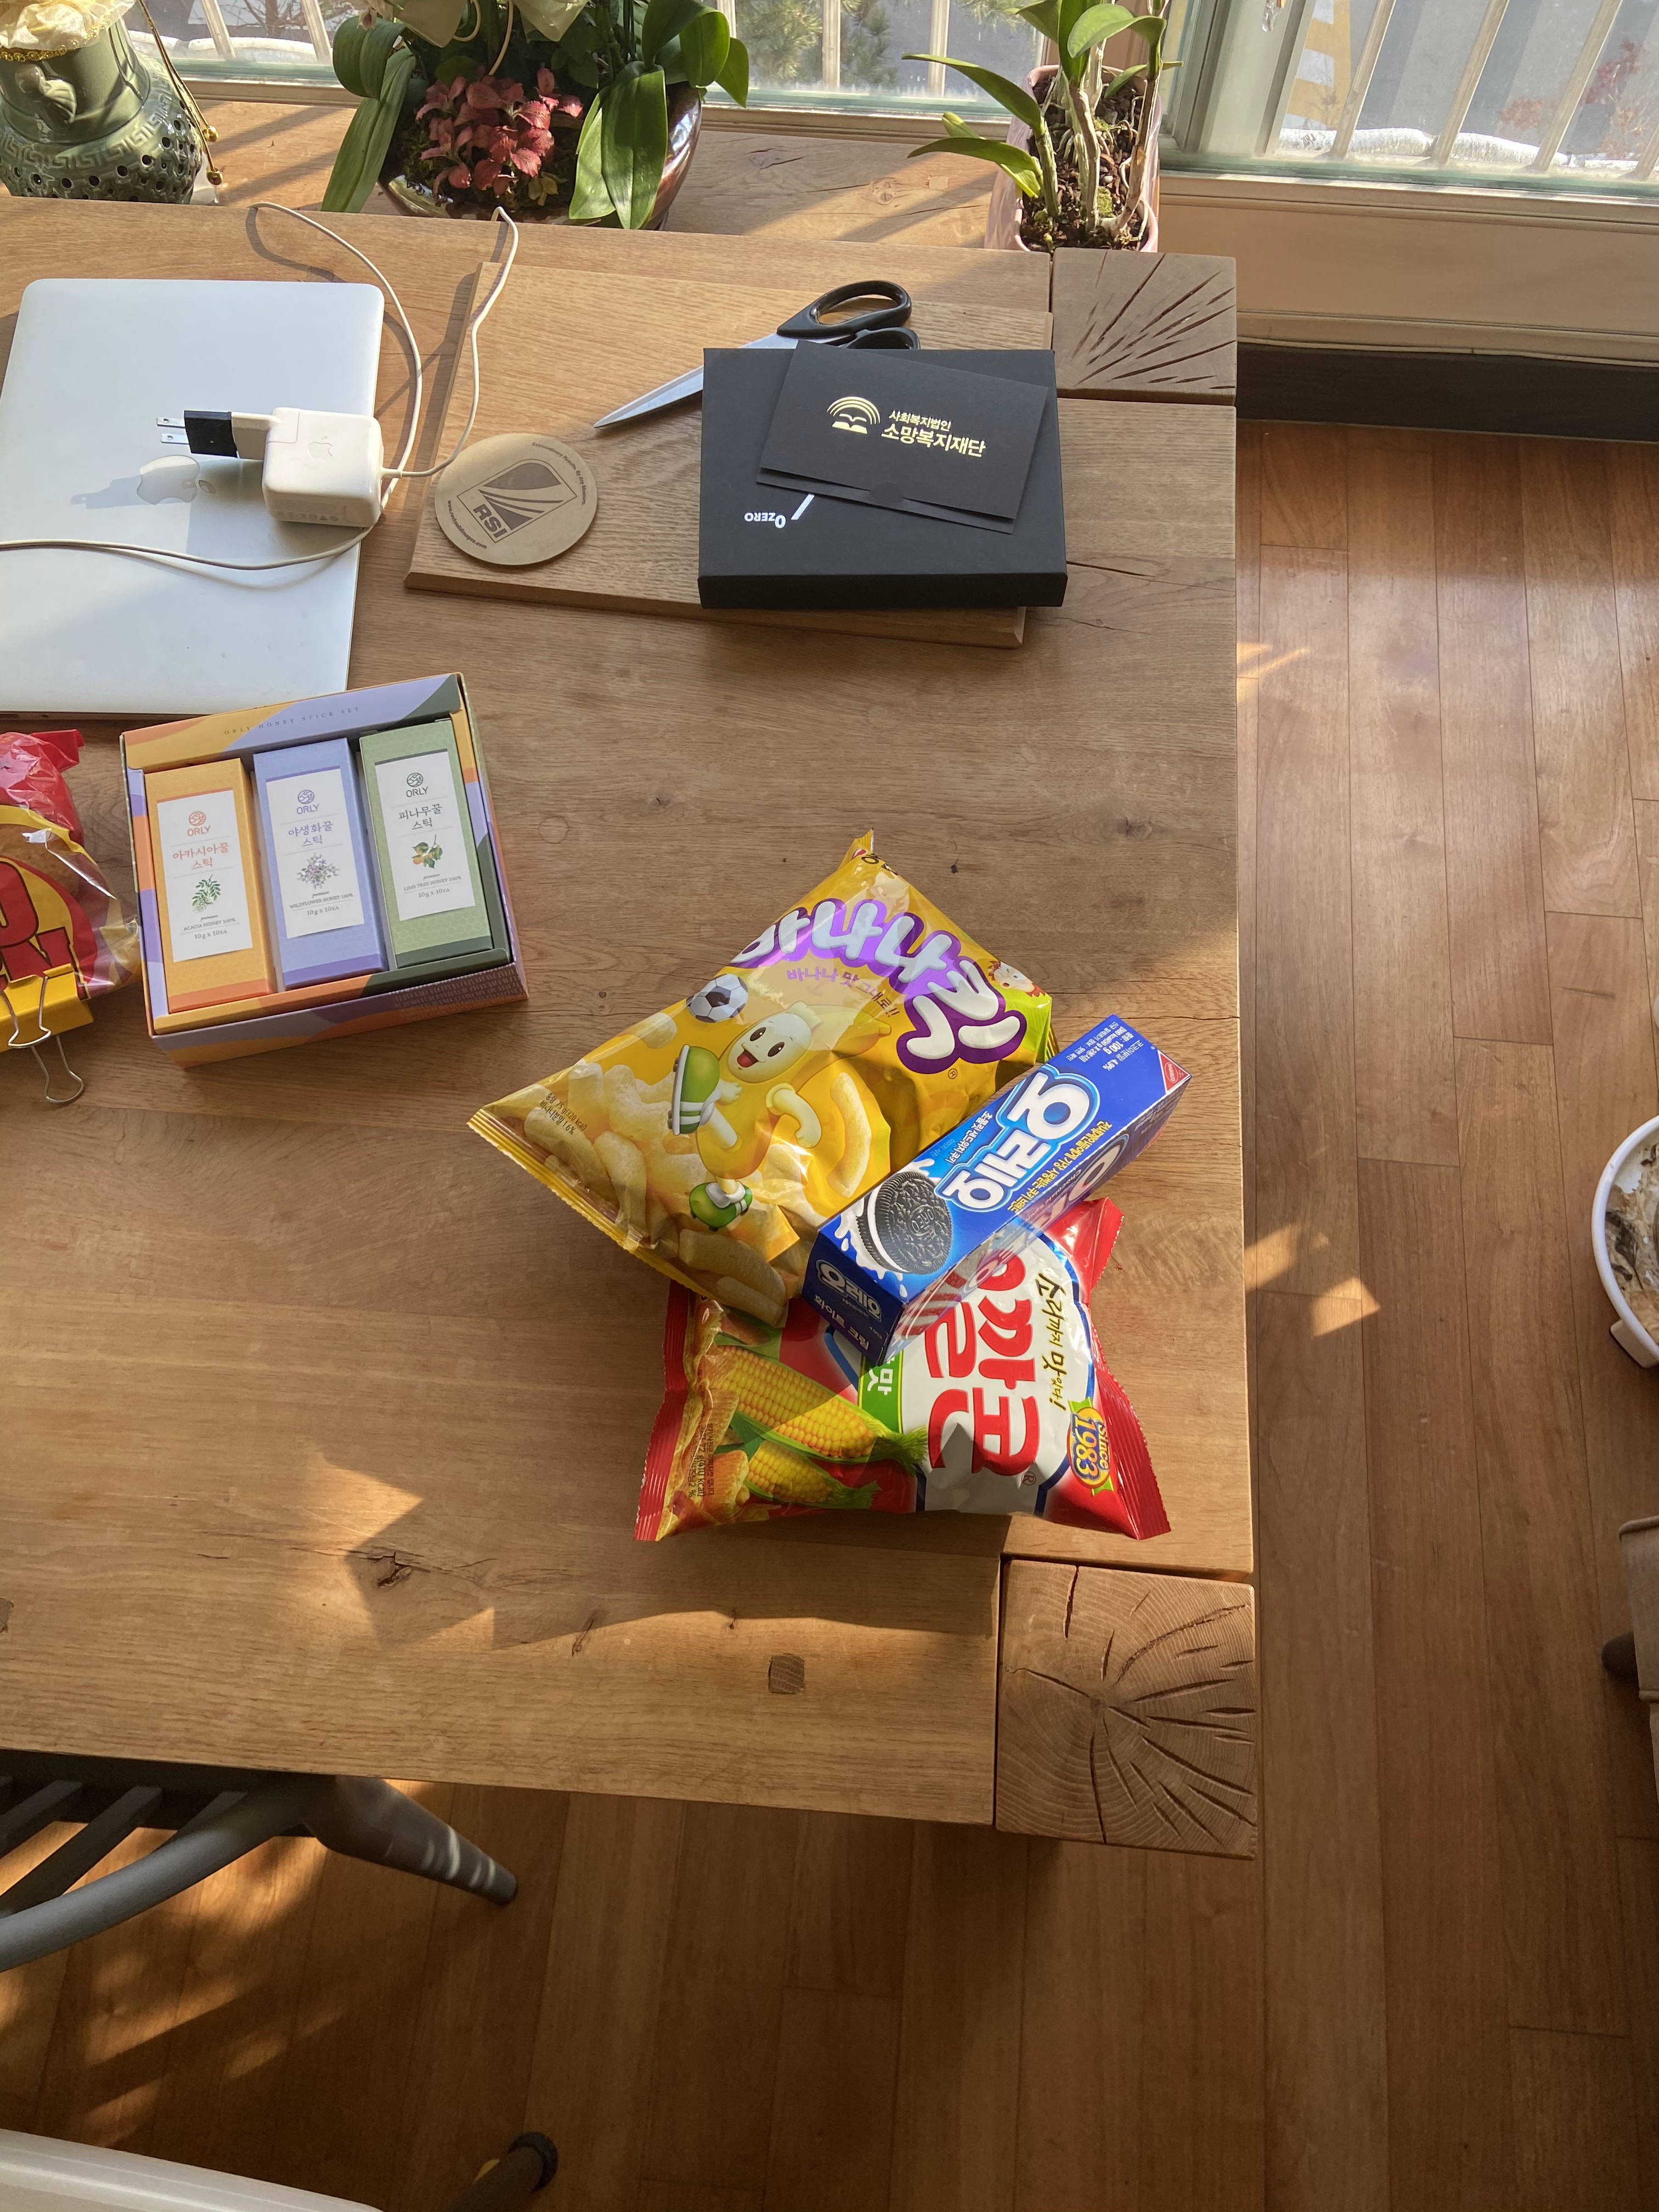banana: (469, 820, 1063, 1339)
ggoggalcon: (619, 1197, 1185, 1566)
oreo: (763, 995, 1197, 1386)
